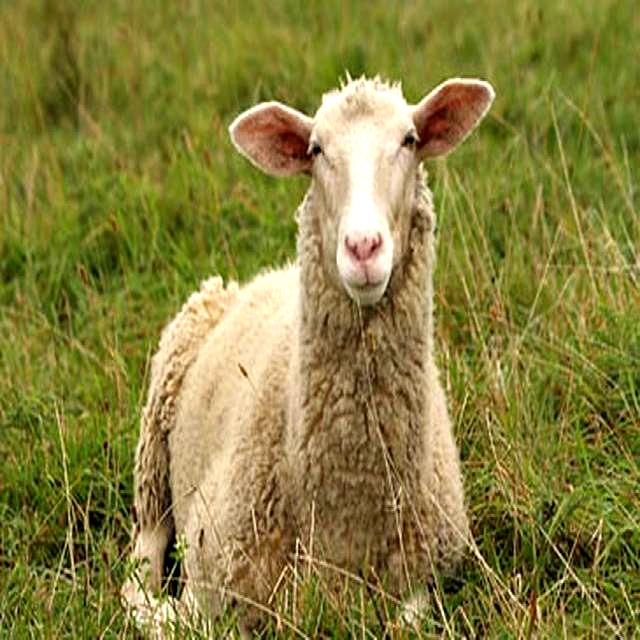sheep: (126, 85, 492, 639)
